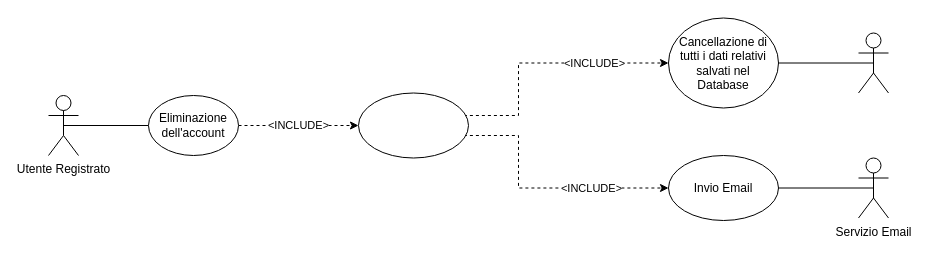
This 935x256 diagram has some shape labels left out. The shapes that lost their labels are listed below. From the top down, each one's box as (x1, y1, x2, y2) in pixels, then its label:
(858, 32, 888, 93): MongoDB Cloud
(358, 92, 468, 158): Conferma scelta
